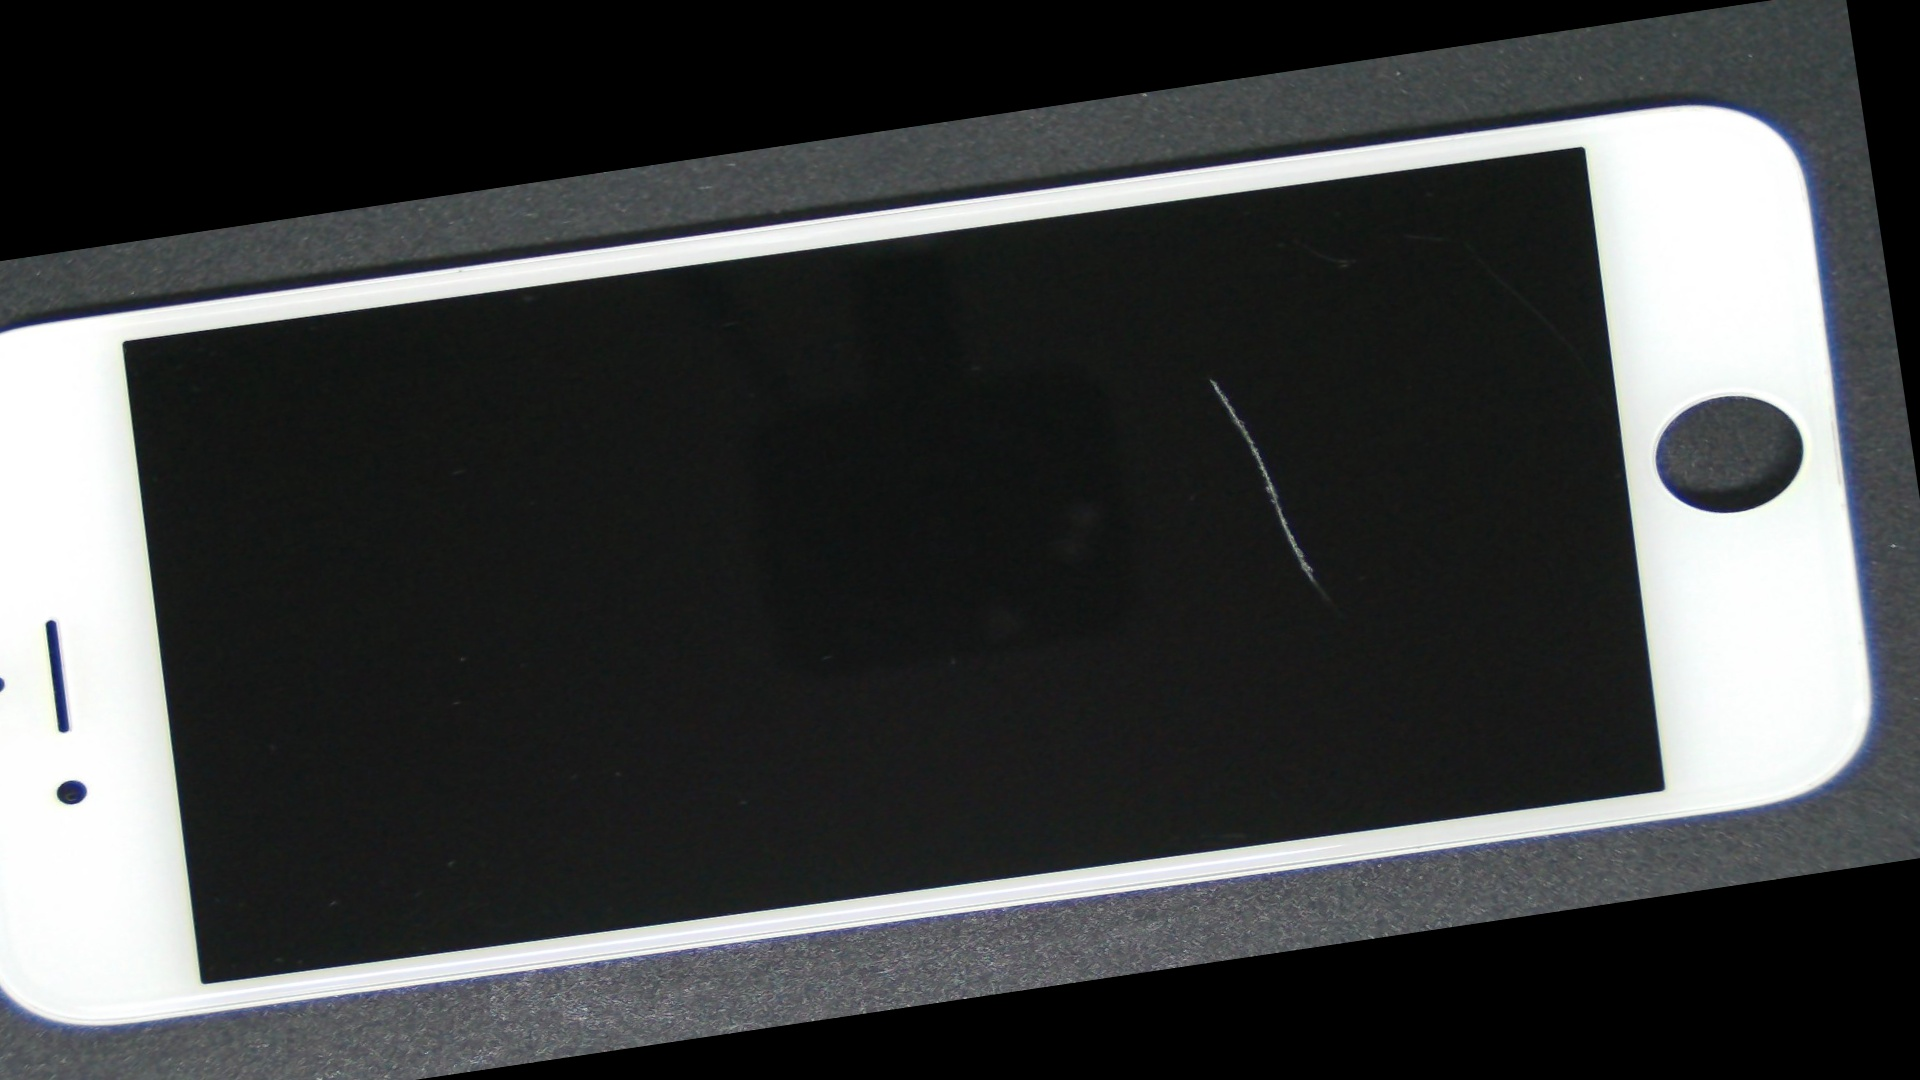oil: (543, 138, 1875, 617)
